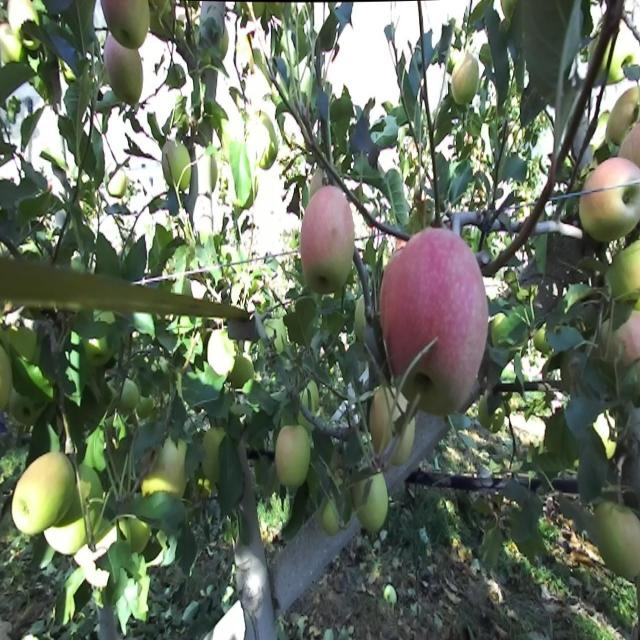apple: (300, 184, 359, 292), (580, 156, 640, 244), (12, 454, 72, 537), (20, 454, 76, 537), (368, 390, 416, 468), (140, 433, 188, 503), (580, 170, 624, 244), (104, 35, 145, 110), (12, 461, 47, 539), (276, 419, 312, 492), (604, 84, 640, 153), (108, 1, 152, 52), (156, 433, 188, 503), (356, 476, 390, 537), (104, 1, 144, 50), (612, 241, 640, 304), (208, 326, 238, 382), (452, 56, 483, 110), (52, 518, 88, 560), (616, 305, 640, 368), (140, 461, 175, 501), (0, 20, 26, 66), (84, 333, 114, 372), (232, 348, 255, 395), (320, 497, 342, 540), (300, 376, 321, 418), (0, 355, 14, 412), (104, 0, 127, 32), (104, 0, 128, 30), (172, 6, 191, 27), (632, 120, 640, 169)
